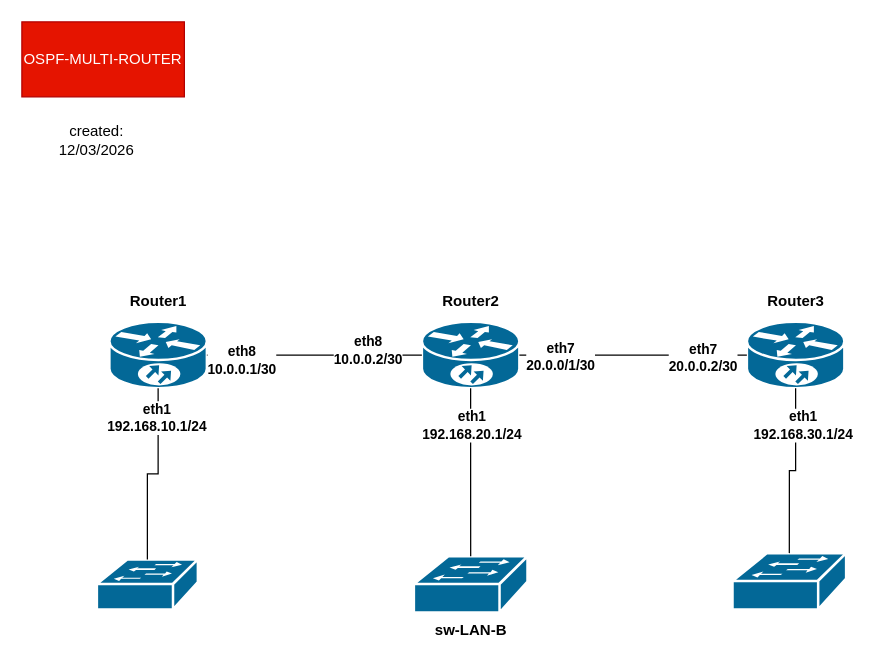
The diagram is 874 pixels wide and 660 high, and some of its shapes have lost their labels. The shapes that lost their labels are listed below. From the top down, each one's centre as x and y in pixels, then its label:
point (146, 584): sw-LAN-A
point (789, 580): sw-LAN-C
